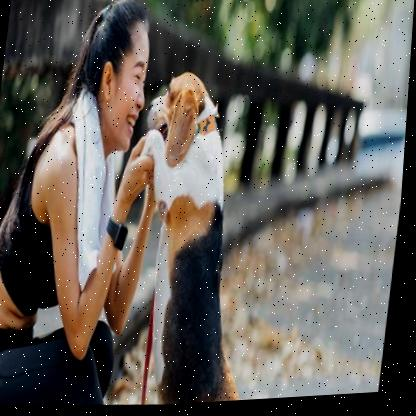dog: (107, 61, 262, 408)
person: (0, 0, 176, 413)
